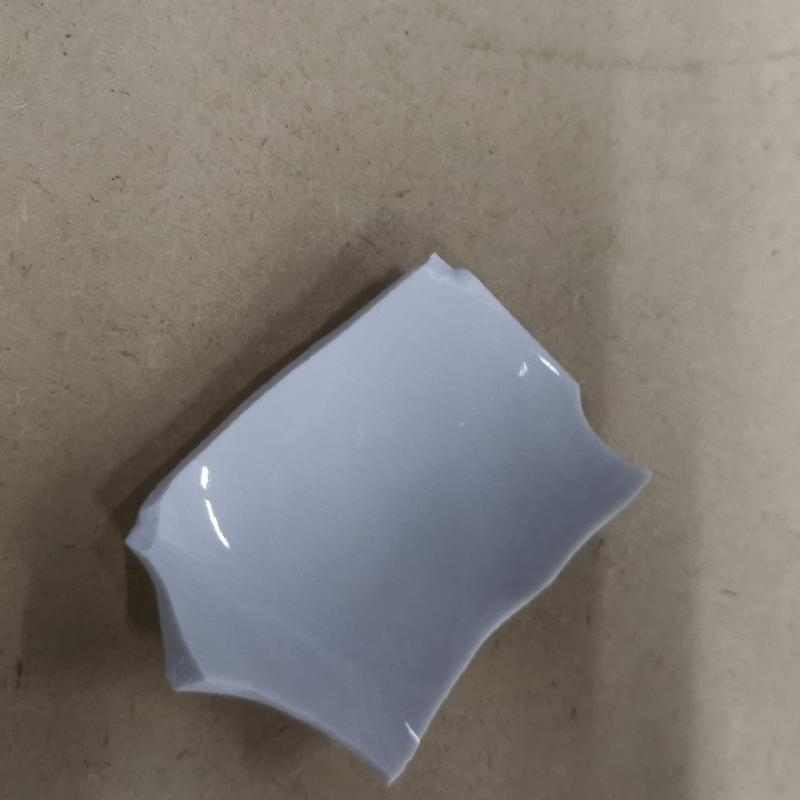ceram: (118, 248, 662, 795)
